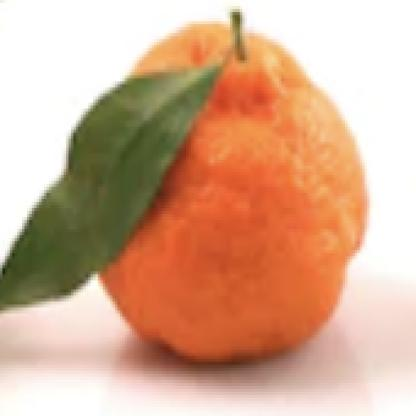fresh: (92, 16, 370, 374)
